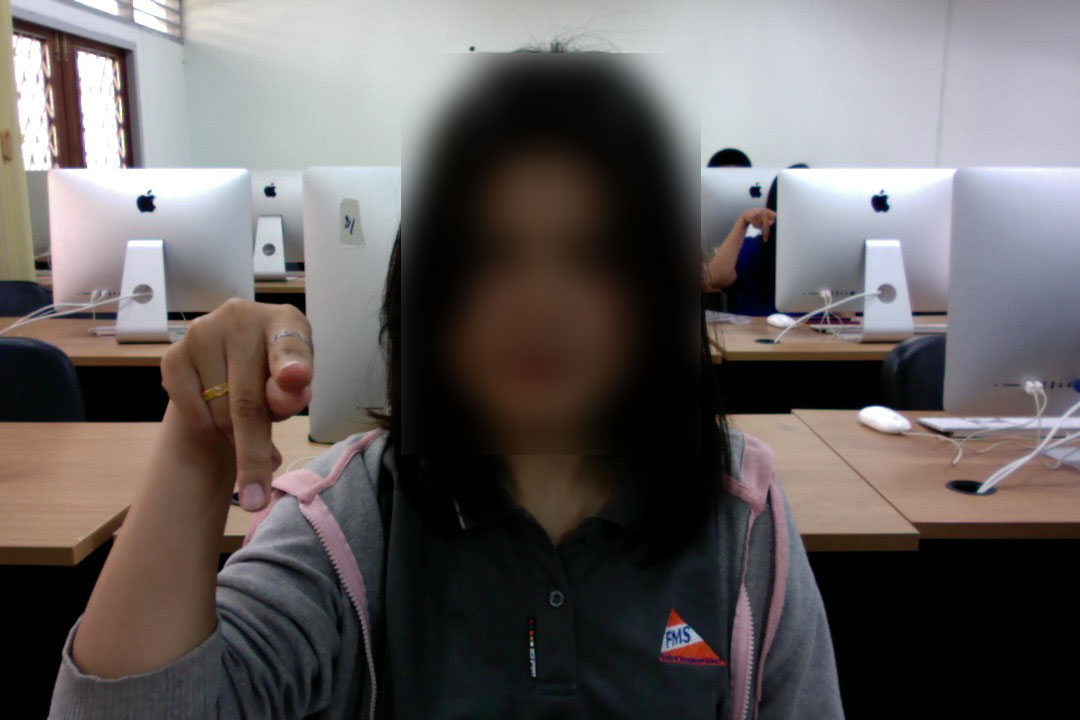por: (148, 288, 329, 523)
